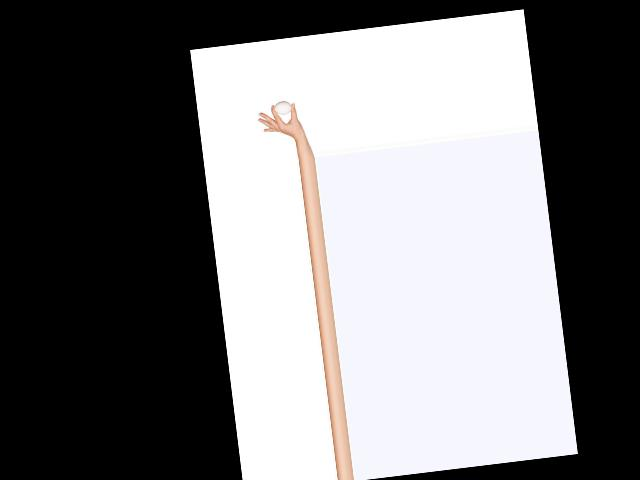egg: (273, 99, 292, 115)
